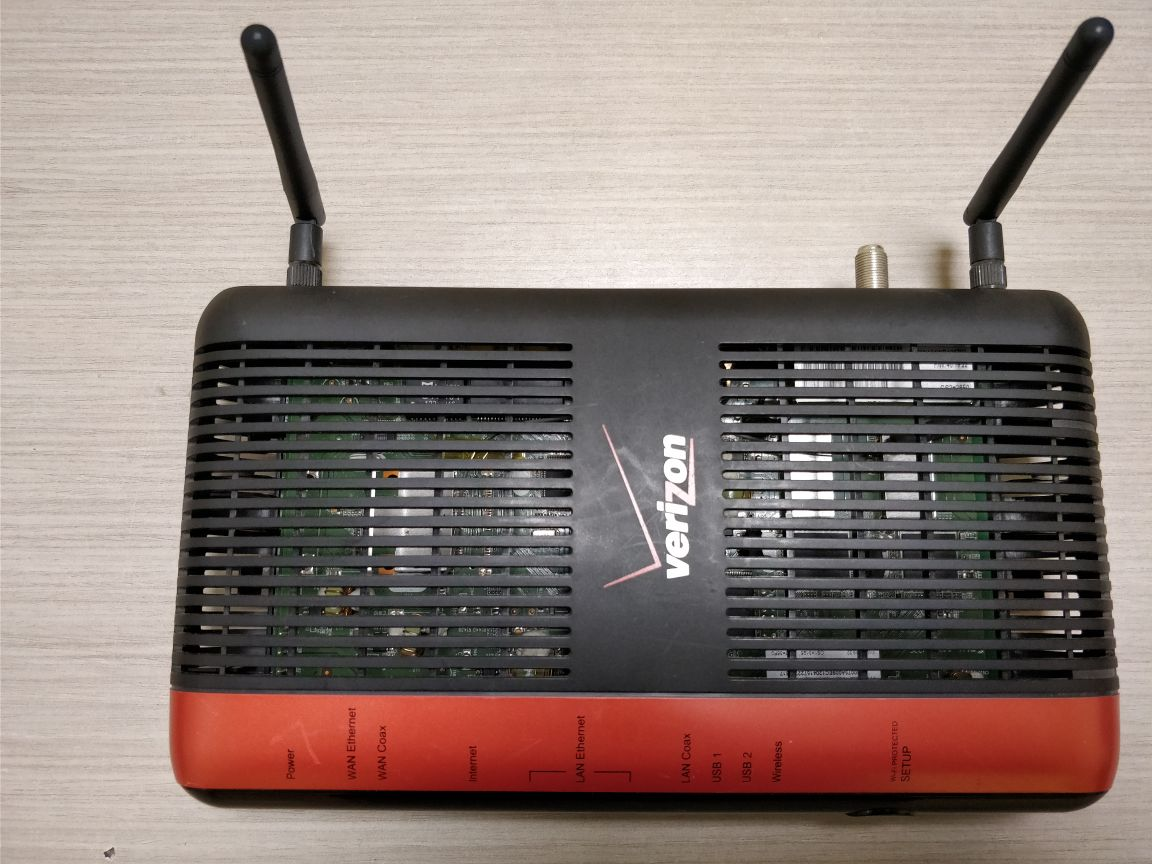Verizon Router: (124, 15, 1152, 854)
